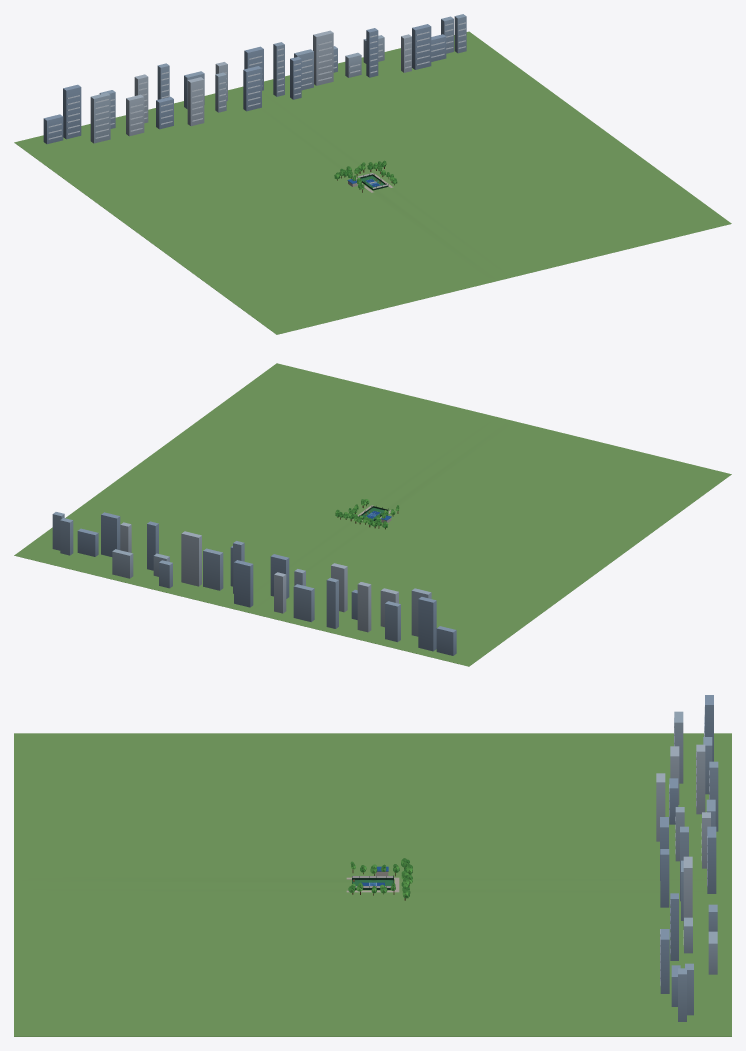
The model's file is pickleball-BZeNKoU2.glb.
The picture shows the model from 3 angles, top to bottom: view 1: azimuth 30°, elevation 25°; view 2: azimuth 150°, elevation 25°; view 3: azimuth 270°, elevation 25°; orthographic projection. The views are drawn at different scales.
Visible parts, largest first — view 1: arena, arena_glow; view 2: arena; view 3: arena.
Part boxes in pixels (x1=…): arena: x1=14, y1=14, x2=731, y2=334; arena_glow: x1=48, y1=22, x2=465, y2=139; arena: x1=14, y1=363, x2=731, y2=666; arena: x1=14, y1=695, x2=731, y2=1036.
Size of the model in its own units: 400 by 42.52 by 400.
